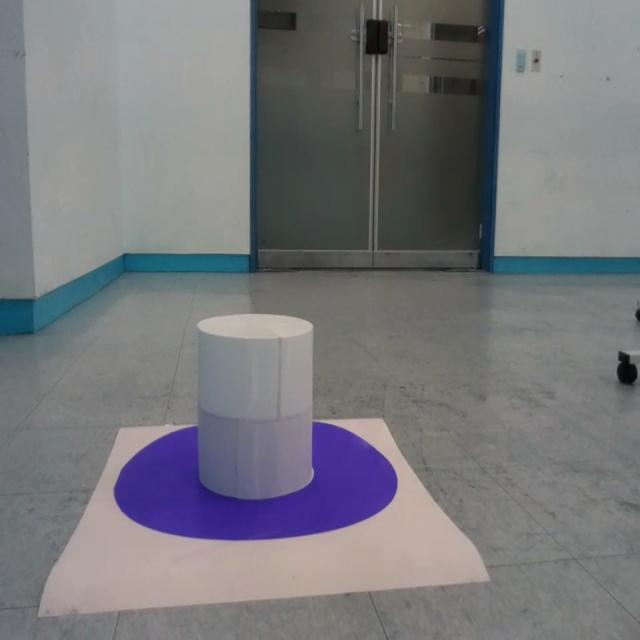cylinder: (196, 314, 314, 500)
